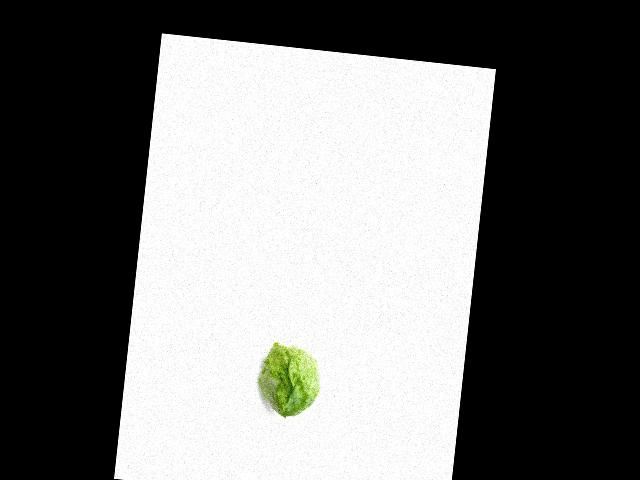lettuce: (251, 341, 328, 420)
